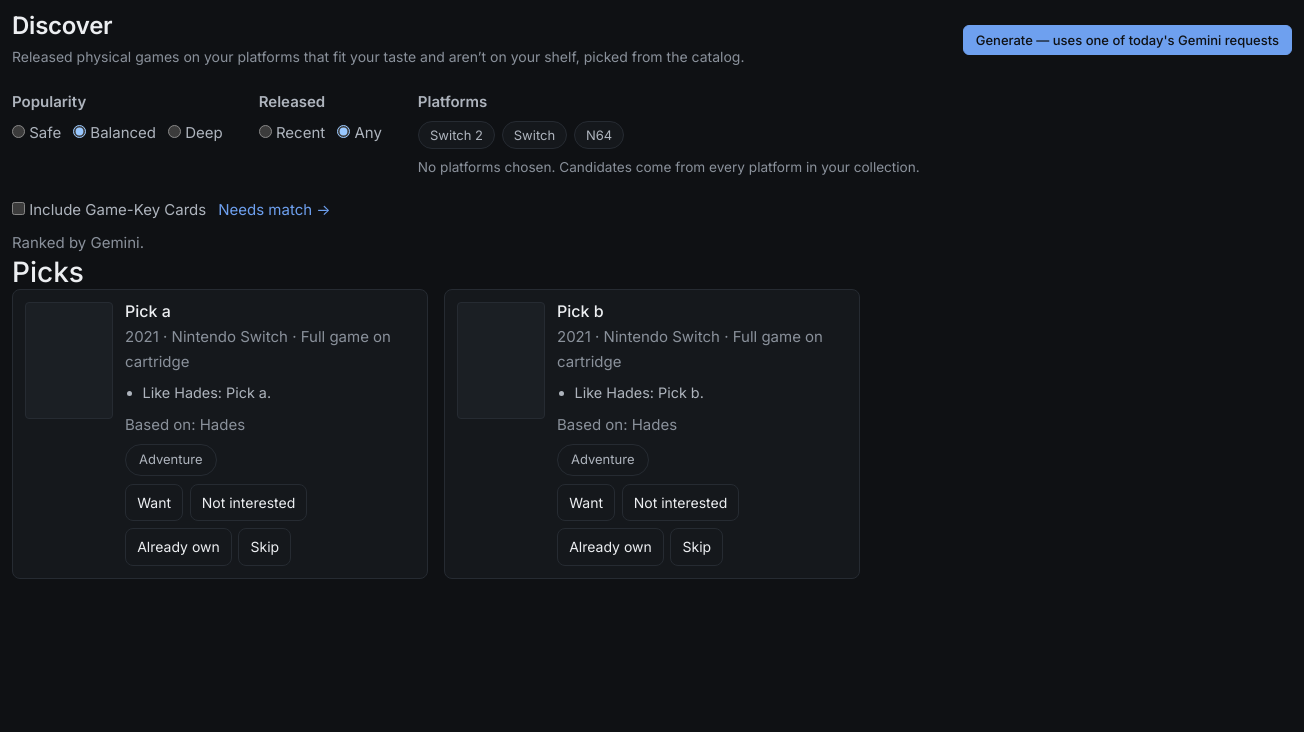
Test: AdminDiscover › shows a 409 as the answer it is and drops the card
Click the button with aria-label "Want Pick b": [586, 502] box [557,484,615,521]
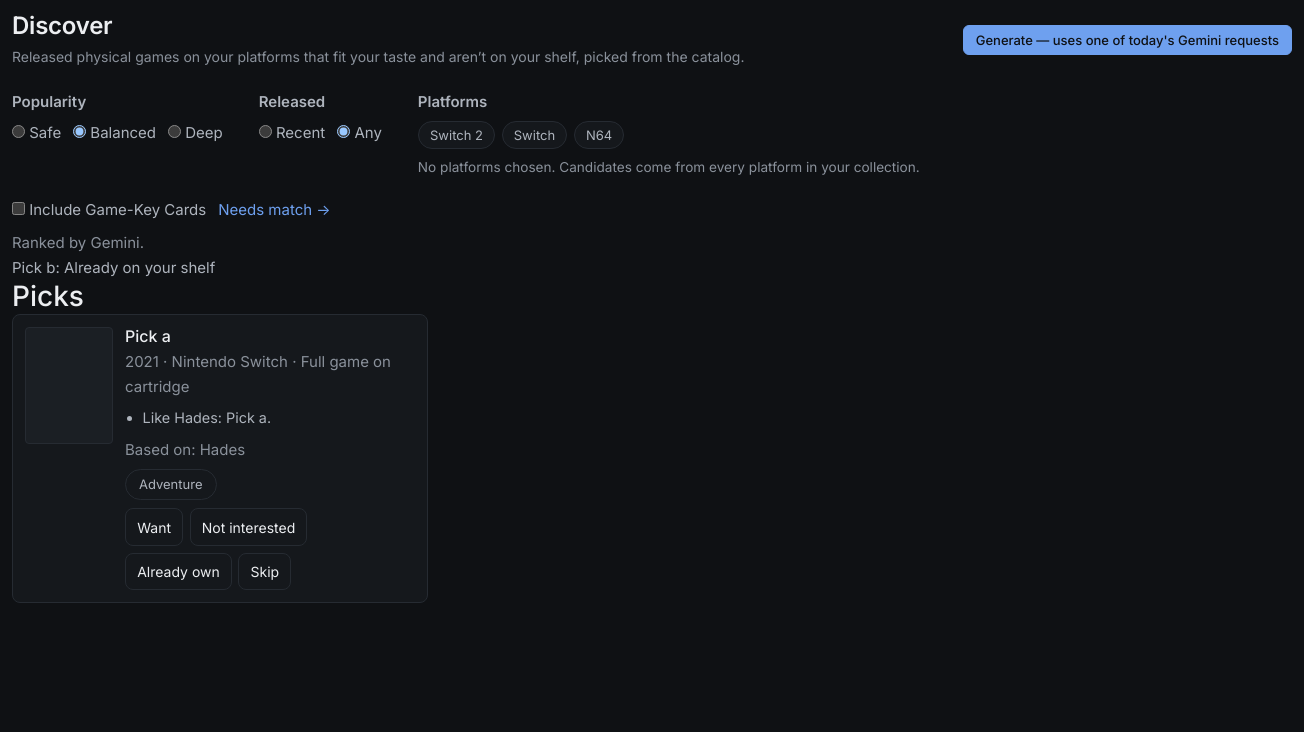
Expected: the message reads "Pick b: Already on your shelf", [12,258,215,276]
